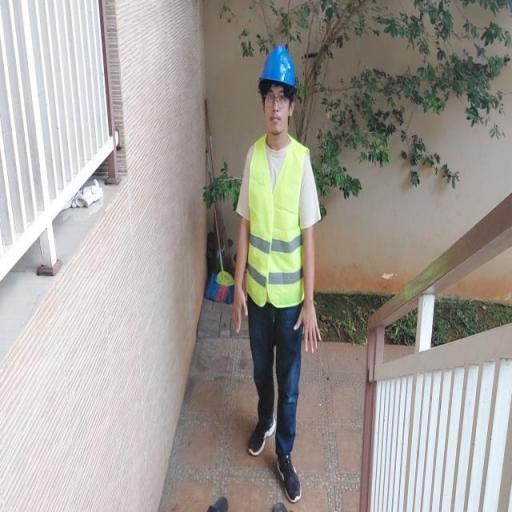Person: (210, 10, 331, 506)
helmet: (256, 43, 302, 92)
vest: (242, 130, 310, 306)
